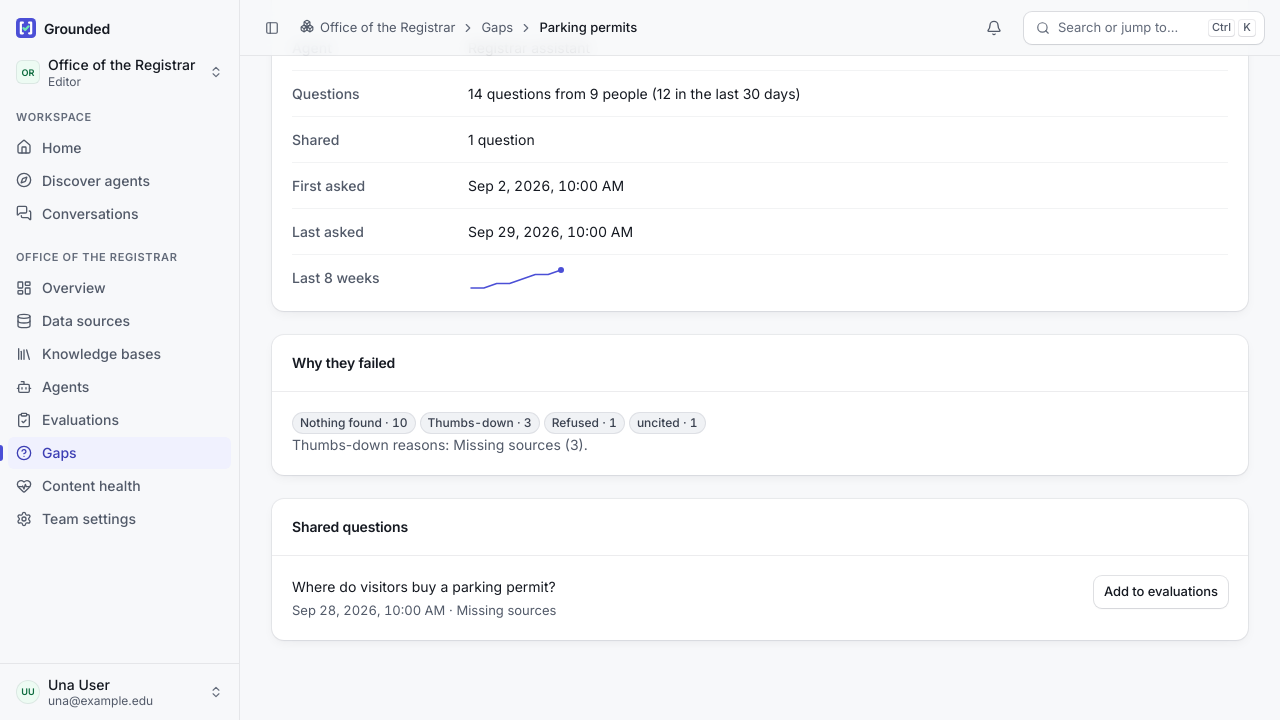
Test: the Gaps page › adds a shared question to one of the agent's evaluation sets, or says to create one
(page scrolled)
Click the button "Add to evaluations" at (1161,592), box [1094, 576, 1228, 608]
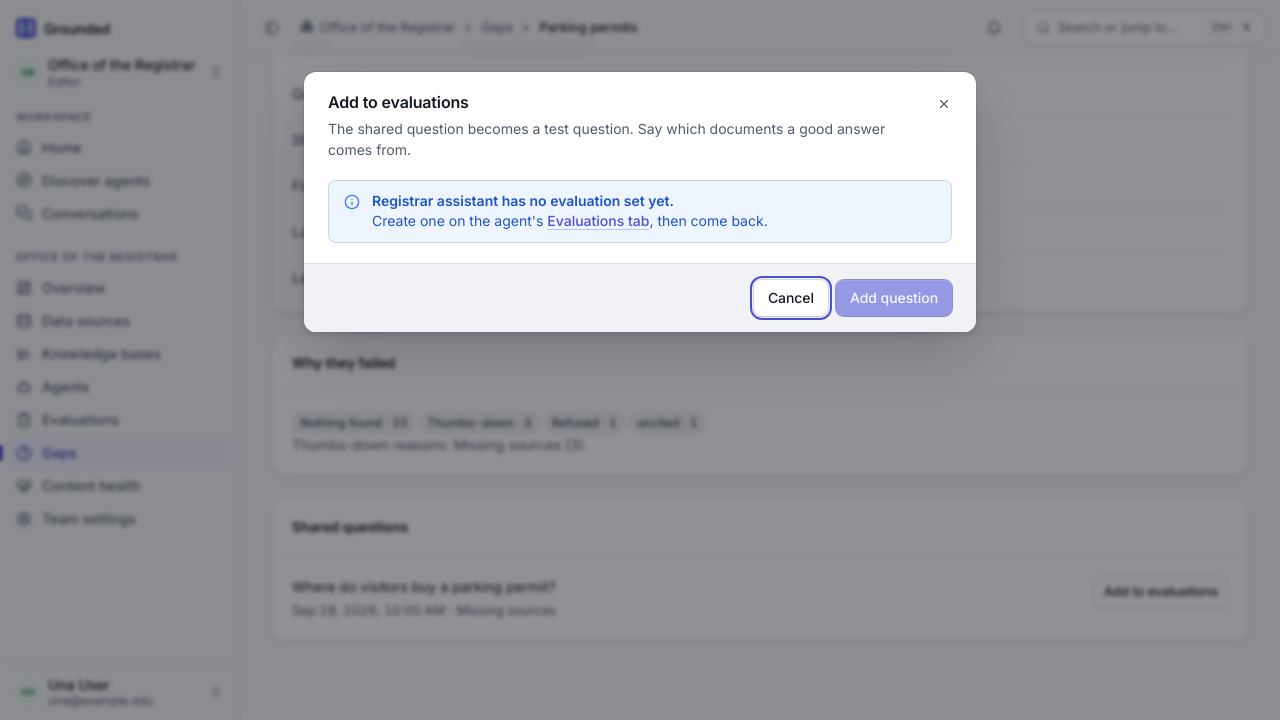
Expected: the text "Registrar assistant has no evaluation set yet." is shown, [372, 192, 674, 209]
Expected: the button "Add question" is disabled, [836, 280, 952, 316]
